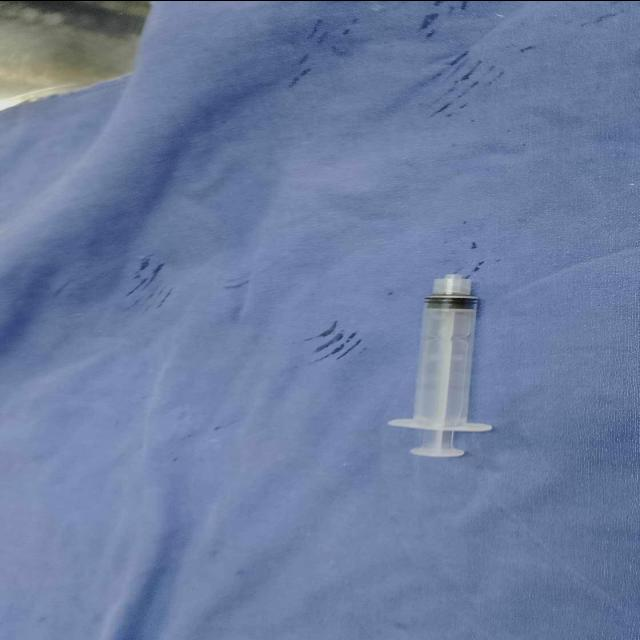Pathological: (2, 2, 636, 637)
Sharps: (386, 272, 494, 457)
